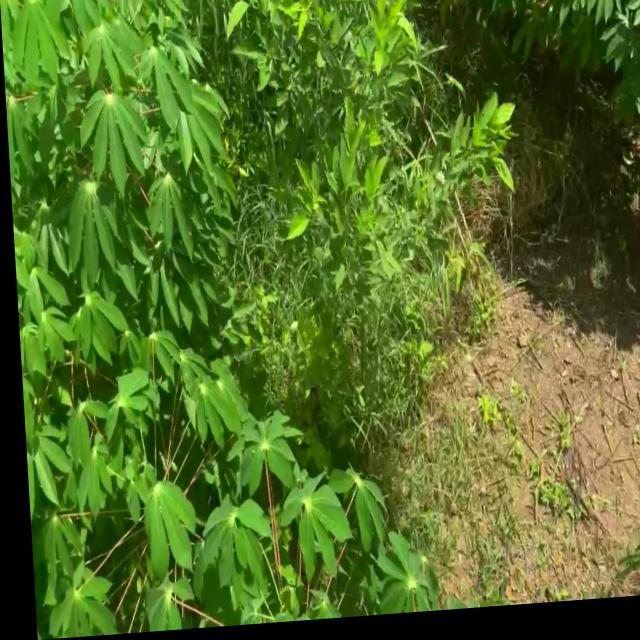Maleza: (336, 91, 512, 371), (243, 174, 431, 390), (227, 2, 447, 184)
Mosca: (184, 225, 194, 240), (250, 447, 260, 457), (75, 546, 82, 560)
